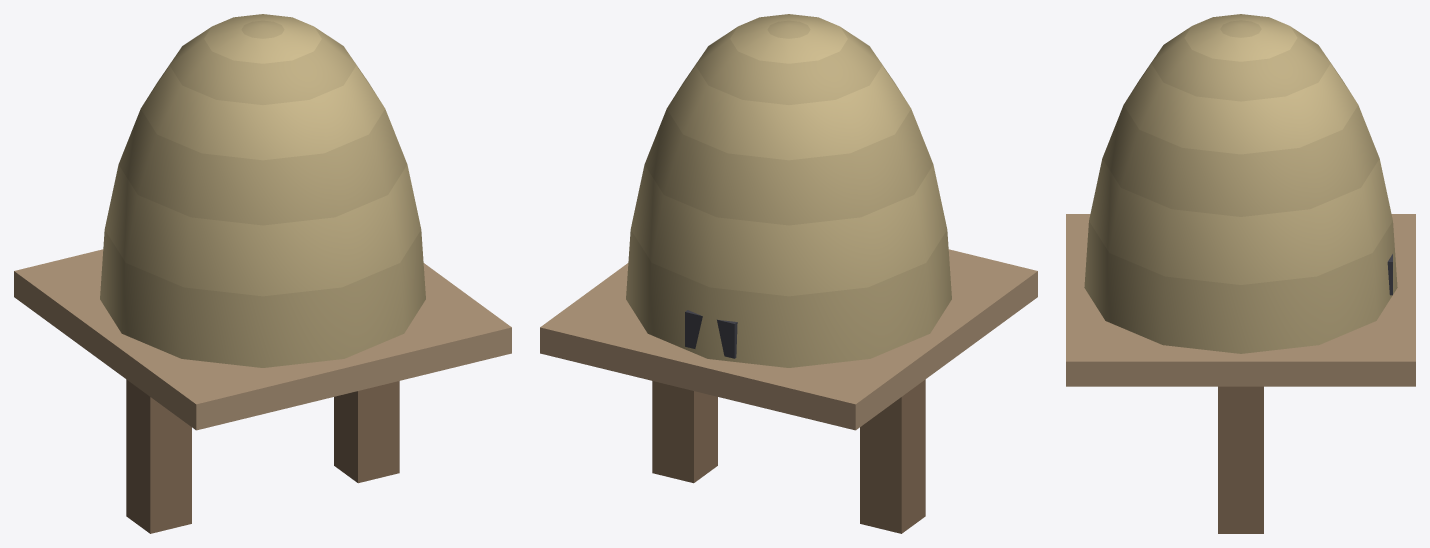
The model's file is beehive.glb.
The picture shows the model from 3 angles, left to right: view 1: azimuth 30°, elevation 25°; view 2: azimuth 150°, elevation 25°; view 3: azimuth 270°, elevation 25°; orthographic projection. The views are drawn at different scales.
Parts seen in each view (by area): view 1: beehive; view 2: beehive; view 3: beehive.
Boxes of the visible parts, x1,y1,x2,y2 form: beehive: (14, 14, 511, 533); beehive: (540, 14, 1037, 533); beehive: (1066, 14, 1415, 533).
Size of the model in its own units: 0.76 by 1.08 by 0.76.
